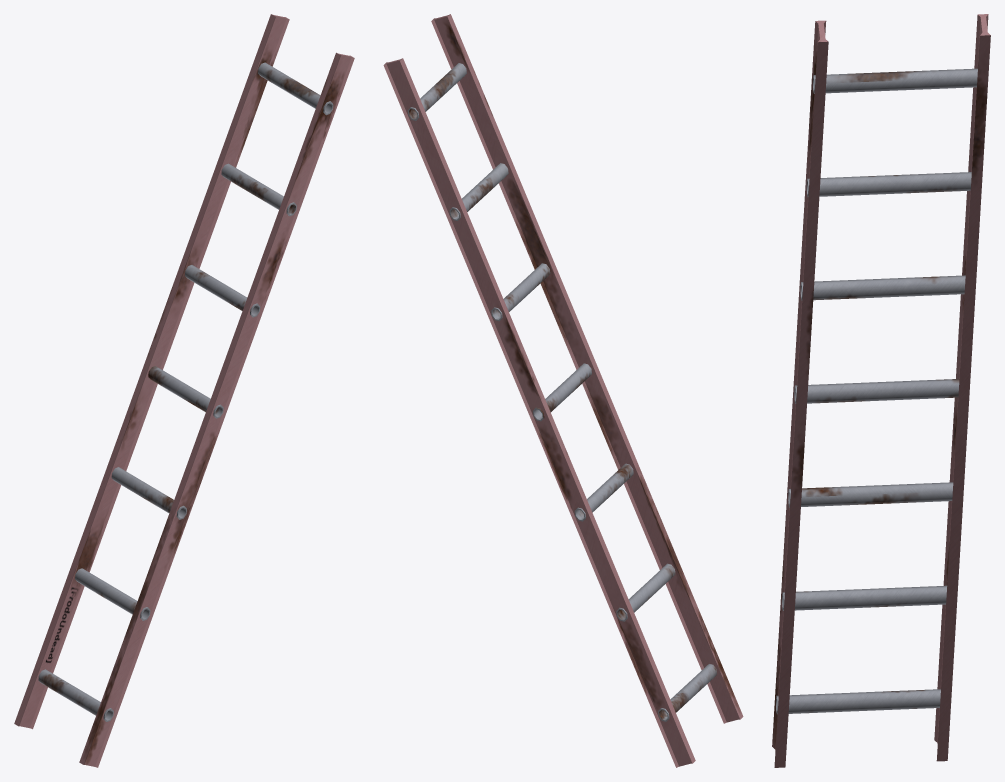
The model's file is Ladder.fbx.
3 renders of one model, left to right at view 1: azimuth 30°, elevation 25°; view 2: azimuth 150°, elevation 25°; view 3: azimuth 270°, elevation 25°, orthographic. The views are drawn at different scales.
Parts seen in each view (by area): view 1: Ladder, Peldaño2, Peldaño4, Peldaño5, Peldaño3, Peldaño1; view 2: Ladder, Peldaño3, Peldaño4, Peldaño5, Peldaño1, Peldaño2; view 3: Ladder, Peldaño3, Peldaño2, Peldaño4, Peldaño1, Peldaño5.
Part boxes in pixels (box(x1,y1,x2,y2)): Ladder: box(14, 14, 354, 767); Peldaño2: box(148, 366, 223, 418); Peldaño4: box(221, 163, 296, 216); Peldaño5: box(258, 62, 333, 115); Peldaño3: box(185, 265, 260, 317); Peldaño1: box(111, 467, 186, 519); Ladder: box(383, 14, 743, 767); Peldaño3: box(491, 263, 550, 321); Peldaño4: box(449, 163, 508, 220); Peldaño5: box(407, 63, 466, 120); Peldaño1: box(574, 463, 633, 521); Peldaño2: box(533, 363, 591, 421); Ladder: box(772, 14, 990, 767); Peldaño3: box(800, 275, 965, 300); Peldaño2: box(794, 379, 959, 403); Peldaño4: box(806, 172, 971, 196); Peldaño1: box(788, 482, 953, 507); Peldaño5: box(813, 68, 977, 93).
Bounding box in the file's own units: 160 × 329 × 70.24.
Materials: 1 (1 with a texture image).
